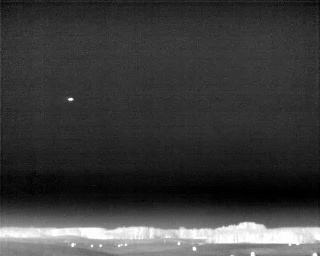AIRPLANE: (66, 95, 75, 104)
